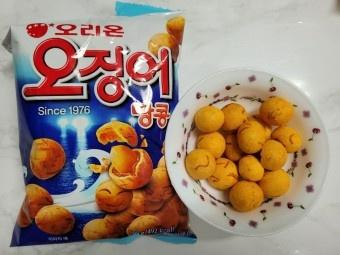snack: (0, 7, 198, 248)
